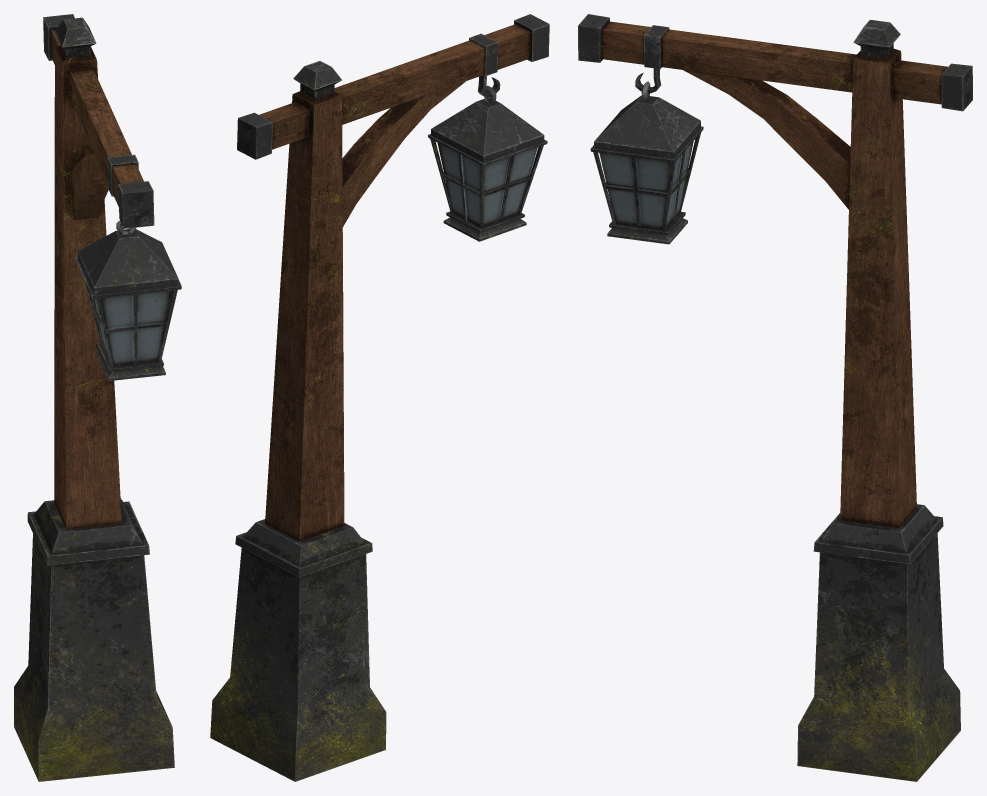
The model's file is lamp_post1.obj.
3 renders of one model, left to right at view 1: azimuth 30°, elevation 25°; view 2: azimuth 150°, elevation 25°; view 3: azimuth 270°, elevation 25°, orthographic. The views are drawn at different scales.
Visible parts, largest first — view 1: E9_Lamp_meshId0_name; view 2: E9_Lamp_meshId0_name; view 3: E9_Lamp_meshId0_name.
Boxes of the visible parts, x1,y1,x2,y2 form: E9_Lamp_meshId0_name: [14, 14, 181, 781]; E9_Lamp_meshId0_name: [210, 14, 549, 781]; E9_Lamp_meshId0_name: [578, 14, 972, 781].
Size of the model in its own units: 1.85 by 6.17 by 3.08.
1 material, 1 textured.
